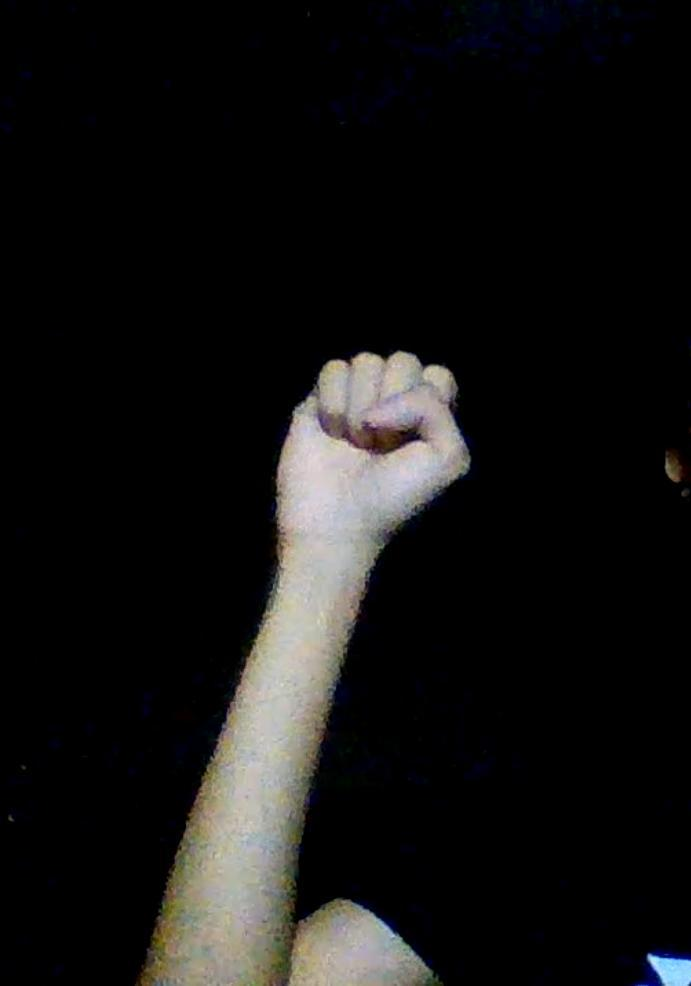a: (269, 350, 475, 543)
